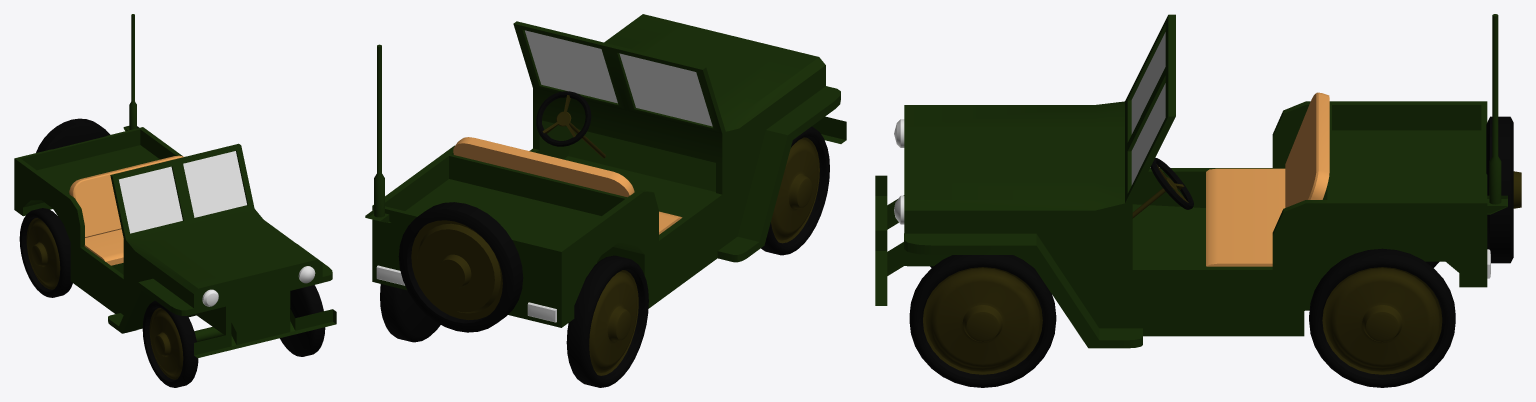
The model's file is Jeep .fbx.
3 views of the same model, side by side, from view 1: azimuth 30°, elevation 25°; view 2: azimuth 150°, elevation 25°; view 3: azimuth 270°, elevation 25° (orthographic). The views are drawn at different scales.
Visible parts, largest first — view 1: Base, BackWheels, FrontWheel.R, FrontWheel.L; view 2: Base, BackWheels, FrontWheel.R, Steering Wheel; view 3: Base, BackWheels, FrontWheel.L, Steering Wheel.
Boxes of the visible parts, x1=… form: Base: x1=14, y1=14, x2=336, y2=357; BackWheels: x1=19, y1=208, x2=72, y2=297; FrontWheel.R: x1=142, y1=300, x2=198, y2=387; FrontWheel.L: x1=280, y1=285, x2=325, y2=356; Base: x1=365, y1=14, x2=846, y2=332; BackWheels: x1=380, y1=255, x2=648, y2=387; FrontWheel.R: x1=761, y1=126, x2=829, y2=255; Steering Wheel: x1=536, y1=91, x2=605, y2=158; Base: x1=875, y1=14, x2=1521, y2=348; BackWheels: x1=1309, y1=248, x2=1455, y2=387; FrontWheel.L: x1=909, y1=255, x2=1056, y2=387; Steering Wheel: x1=1132, y1=158, x2=1193, y2=218.
Size of the model in its own units: 405 by 548 by 881.
